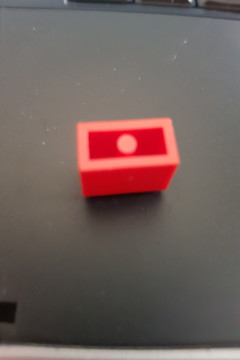1x2 red: (73, 113, 179, 204)
